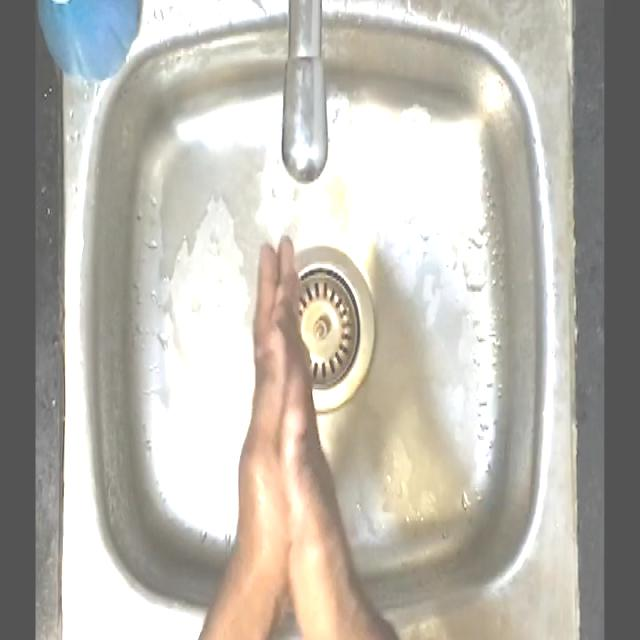step_1: (223, 220, 354, 570)
